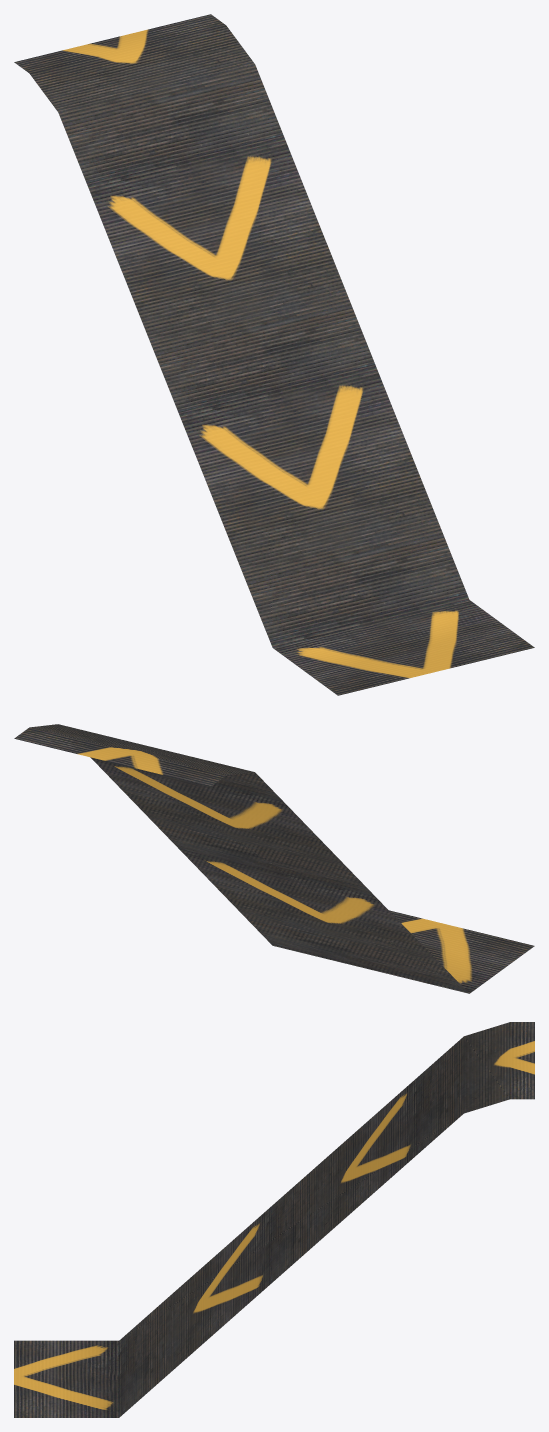
The model's file is Belt_ConvRamp45.FBX.
3 views of the same model, one above another, from view 1: azimuth 30°, elevation 25°; view 2: azimuth 150°, elevation 25°; view 3: azimuth 270°, elevation 25° (orthographic). The views are drawn at different scales.
Parts seen in each view (by area): view 1: Belt_Conv45_Ramp001; view 2: Belt_Conv45_Ramp001; view 3: Belt_Conv45_Ramp001.
Boxes of the visible parts, x1,y1,x2,y2 form: Belt_Conv45_Ramp001: [14, 14, 534, 695]; Belt_Conv45_Ramp001: [14, 724, 534, 993]; Belt_Conv45_Ramp001: [14, 1022, 534, 1417].
Bounding box in the file's own units: 1.5 × 2.88 × 4.27.
1 material, 1 textured.
